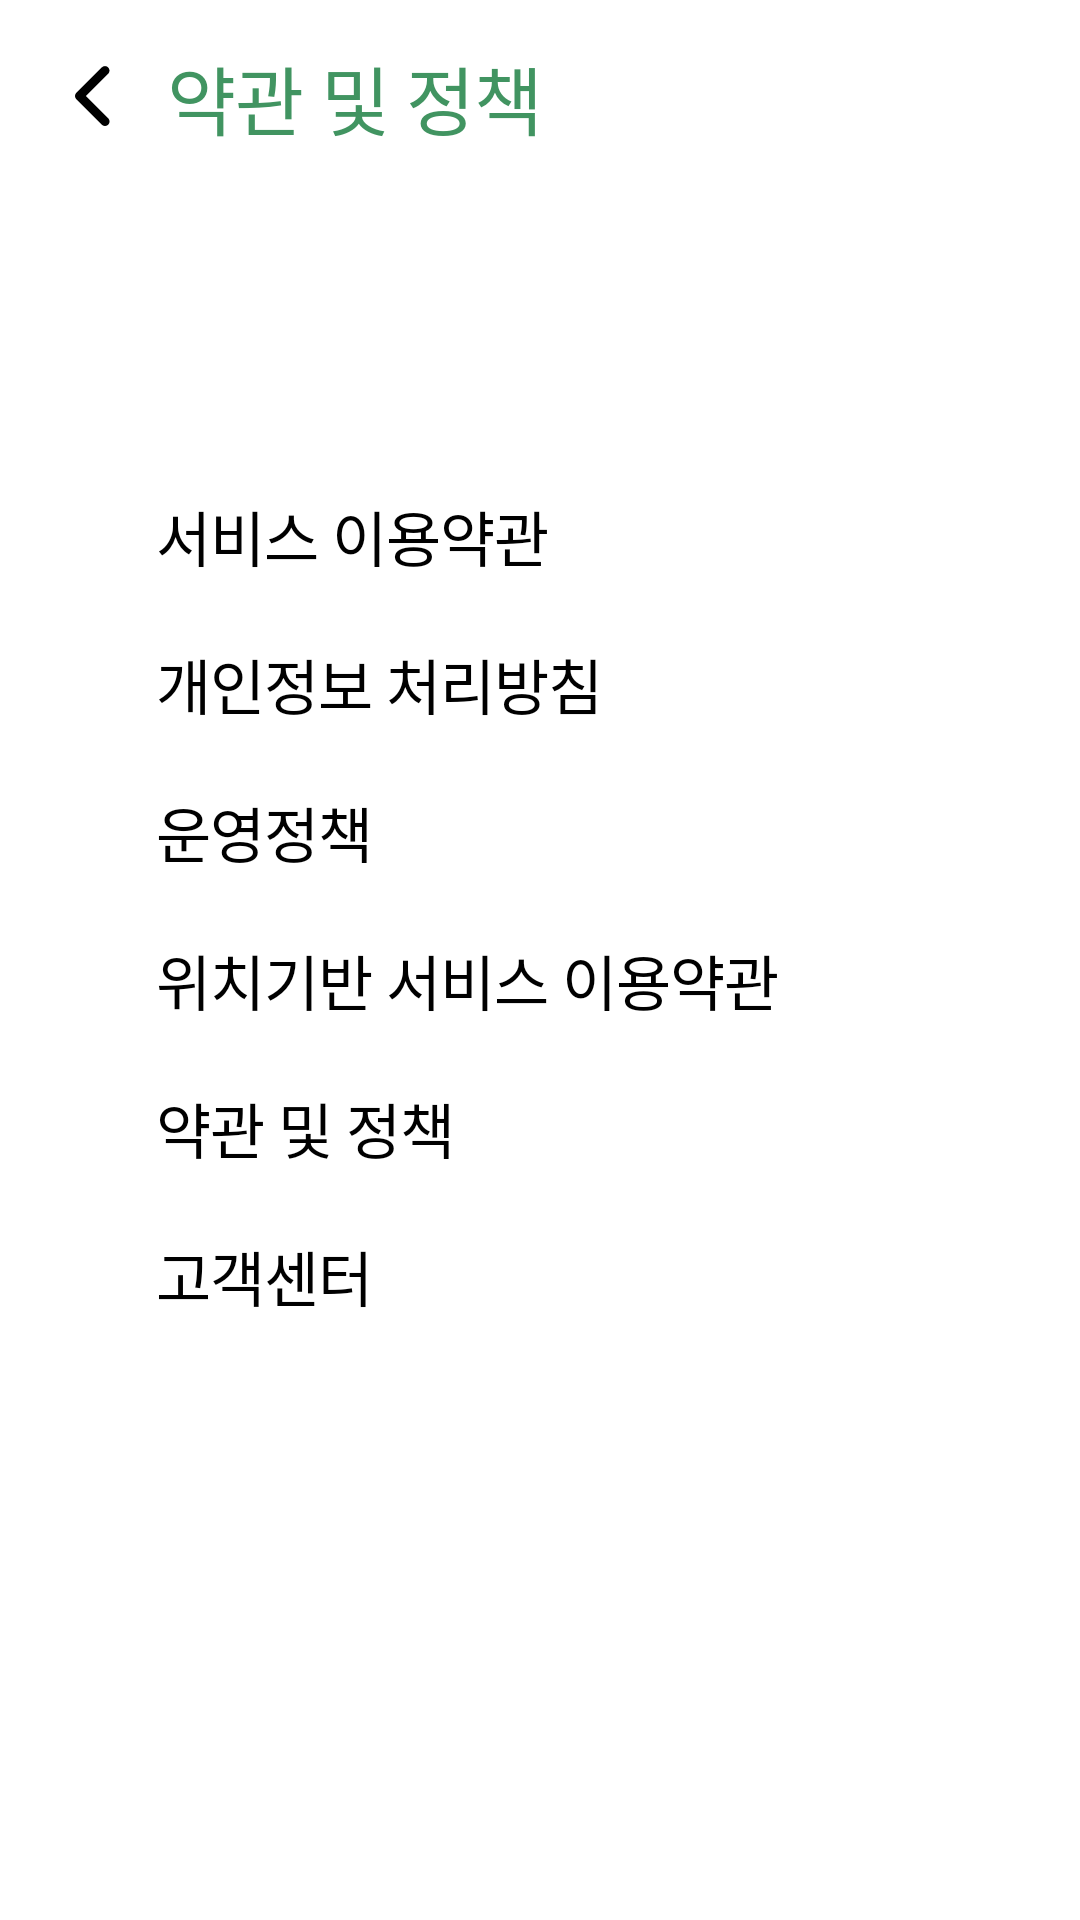

Named icons in this screenshot (1080*1920) and their bounding boxes, (x1, y1, x2, y2):
뒤로가기: (75, 66, 110, 126)
